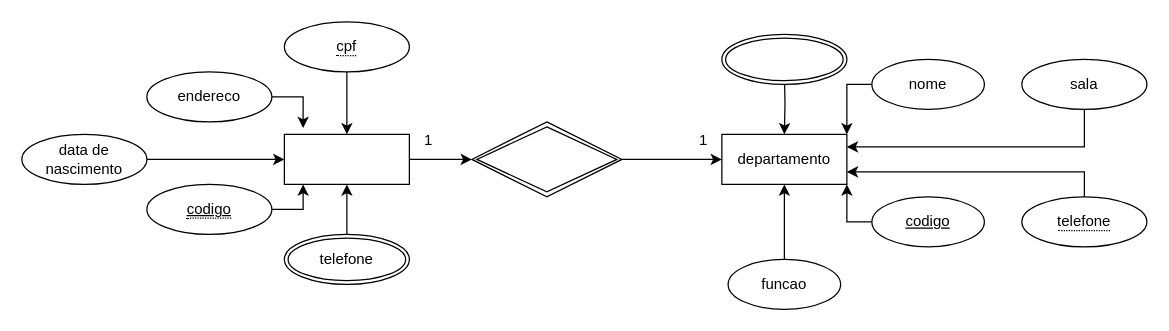
This 1169x331 diagram has some shape labels left out. The shapes that lost their labels are listed below. From the top down, each one's centre as x and y in pixels, then its label:
At (784,58): "funcionarios".
At (346,158): "diretor".
At (546,159): "gerencia".
